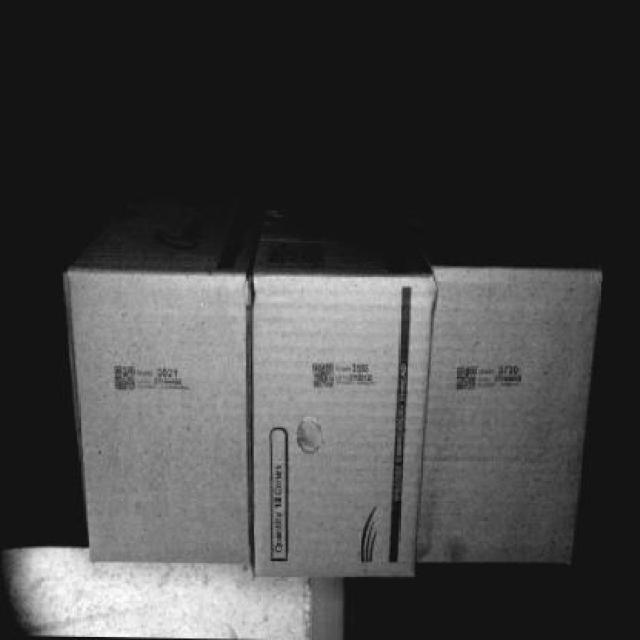cardboxes: (63, 278, 255, 568), (254, 278, 423, 576), (428, 274, 583, 574)
